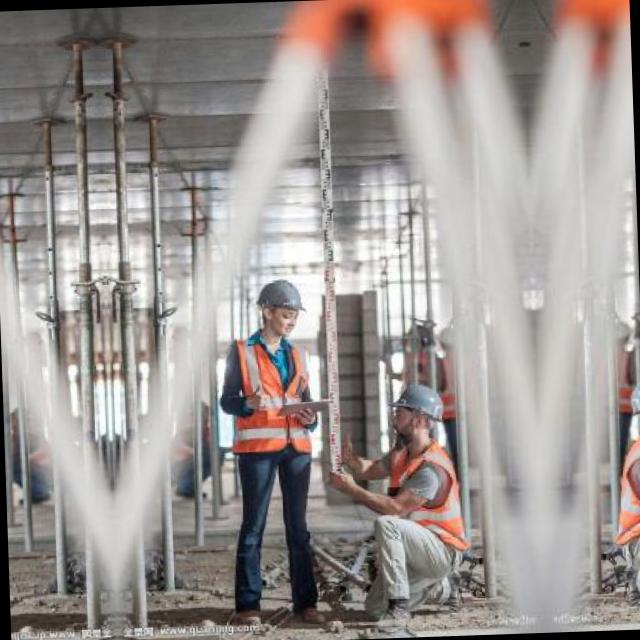helmet: (388, 382, 444, 450), (249, 273, 301, 339), (626, 375, 640, 443)
